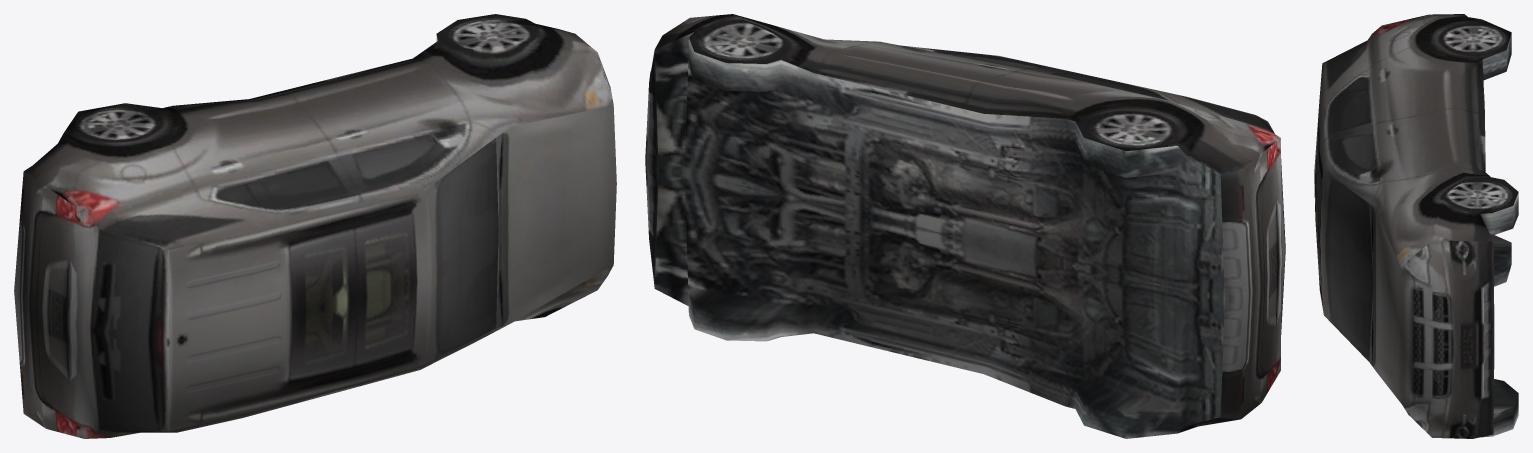
Rendered from ny_harbor_veh_civ_car_a_6_LOD0.obj.
3 views of the same model, side by side, from view 1: azimuth 30°, elevation 25°; view 2: azimuth 150°, elevation 25°; view 3: azimuth 270°, elevation 25° (orthographic). The views are drawn at different scales.
Visible parts, largest first — view 1: mtl_ac_prs_vehicle_sheet_a; view 2: mtl_ac_prs_vehicle_sheet_a; view 3: mtl_ac_prs_vehicle_sheet_a.
Boxes of the visible parts, left/top/right/bottom form: mtl_ac_prs_vehicle_sheet_a: left=14, top=14, right=616, bottom=438; mtl_ac_prs_vehicle_sheet_a: left=645, top=14, right=1285, bottom=438; mtl_ac_prs_vehicle_sheet_a: left=1314, top=14, right=1518, bottom=438.
Size of the model in its own units: 559 by 257 by 205.
